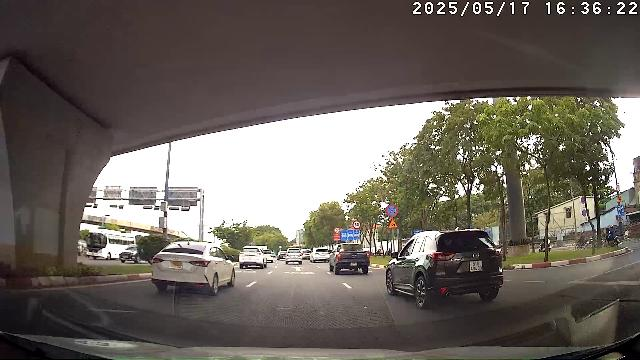127-toc-do-toi-da-60: (353, 220, 361, 229)
130-cam-dung-va-do-xe: (386, 204, 398, 217)
